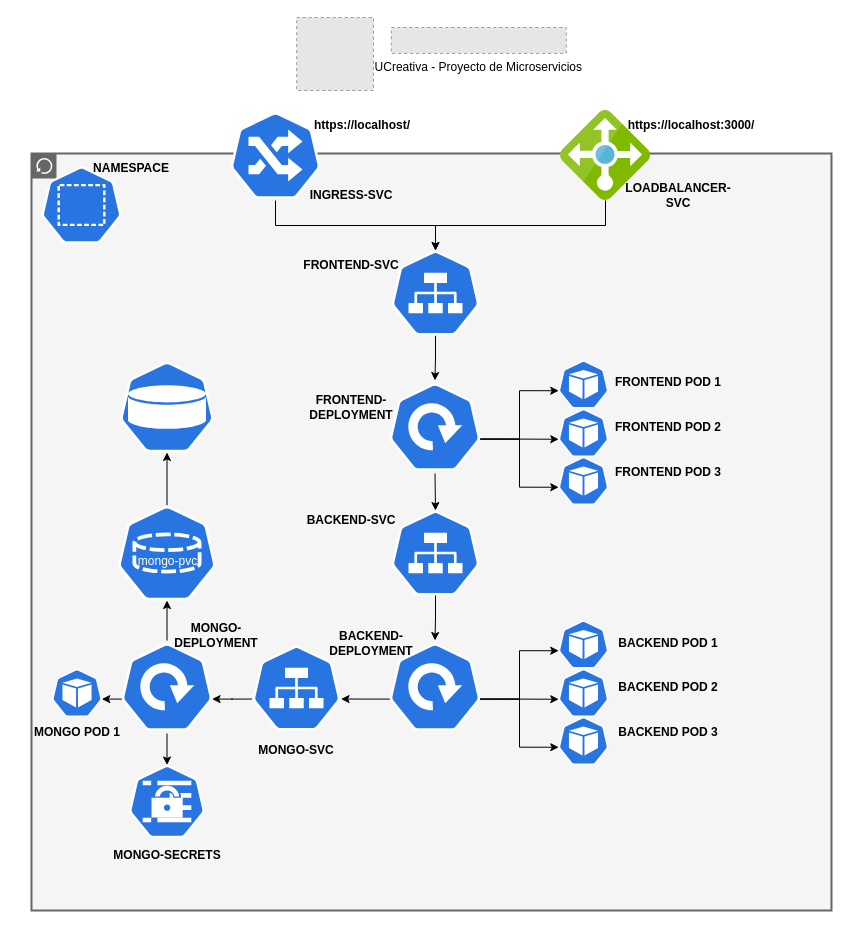
Image size: 850x929. Some labels were removed from this diagram. Grey dashed boxes stand in for pictures. Each missing label, with the centre of its shape:
"mongo-pv" belongs at pixel 166 406.
"myapp" belongs at pixel 81 204.
